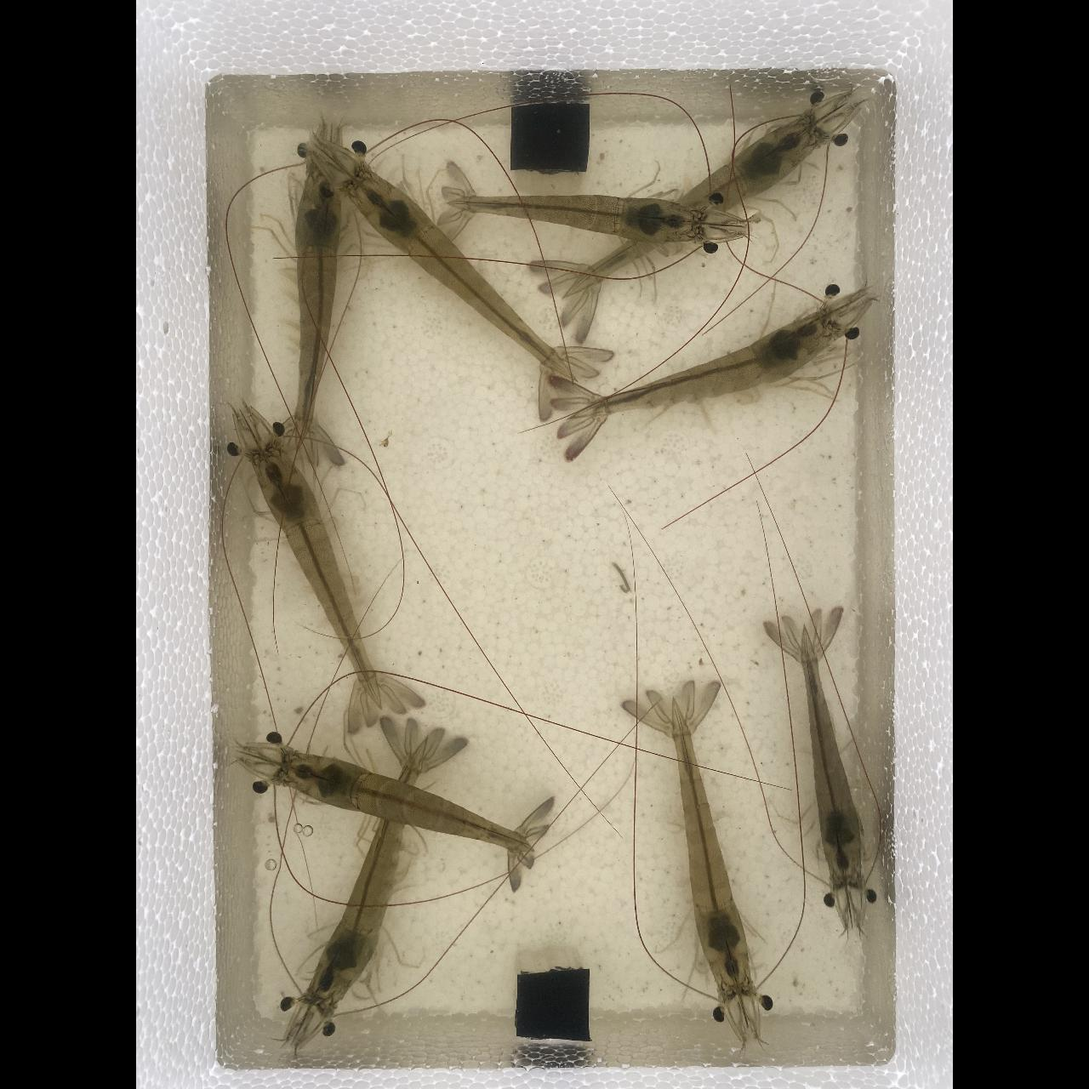box: (510, 100, 590, 172), (516, 970, 589, 1040)
top_shrimp: (352, 168, 570, 379), (563, 116, 817, 288), (310, 739, 425, 1010), (254, 449, 378, 699), (572, 313, 835, 415), (282, 754, 527, 847), (677, 708, 749, 990), (800, 633, 863, 881), (454, 196, 715, 247), (296, 163, 340, 449)
